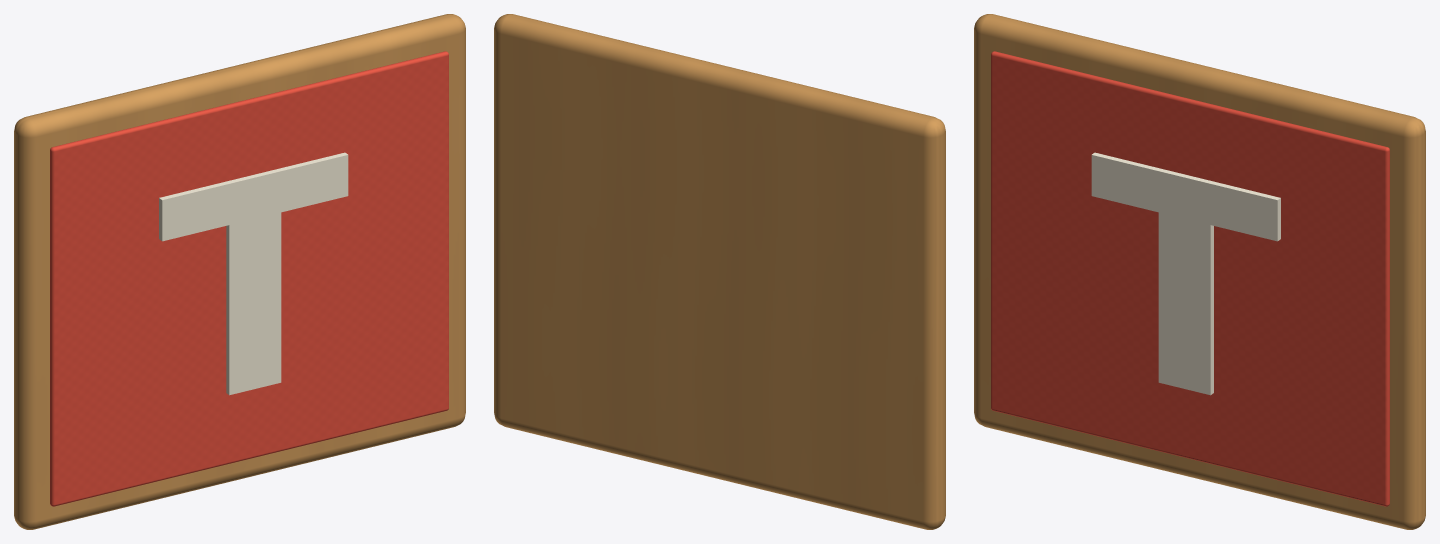
File: Wall_Sign.glb
3 renders of one model, left to right at view 1: azimuth 30°, elevation 25°; view 2: azimuth 150°, elevation 25°; view 3: azimuth 330°, elevation 25°, orthographic.
Parts seen in each view (by area): view 1: Wall_Sign; view 2: Wall_Sign; view 3: Wall_Sign.
Boxes of the visible parts, <box> form: Wall_Sign: <box>14,14,465,529</box>; Wall_Sign: <box>494,14,945,529</box>; Wall_Sign: <box>974,14,1425,529</box>.
Bounding box in the file's own units: 0.73 × 0.64 × 0.0655.
3 materials, 2 textured.
